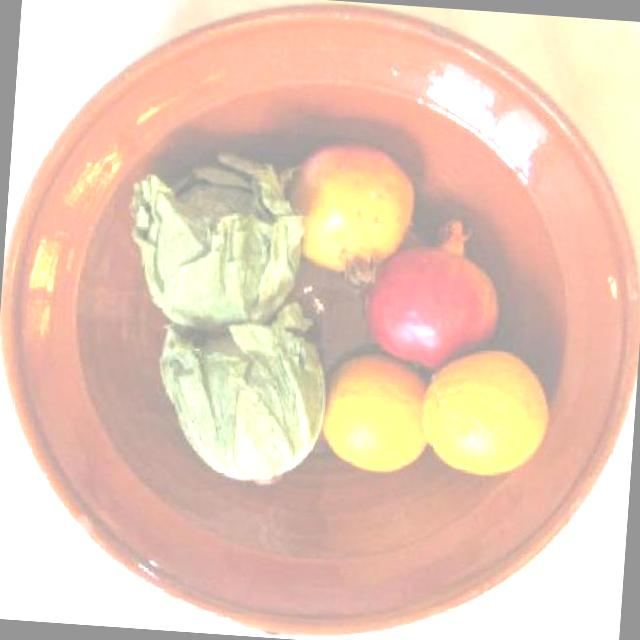Apple: (358, 240, 504, 368)
Orange: (417, 344, 554, 482), (287, 141, 420, 280), (320, 352, 433, 473)
